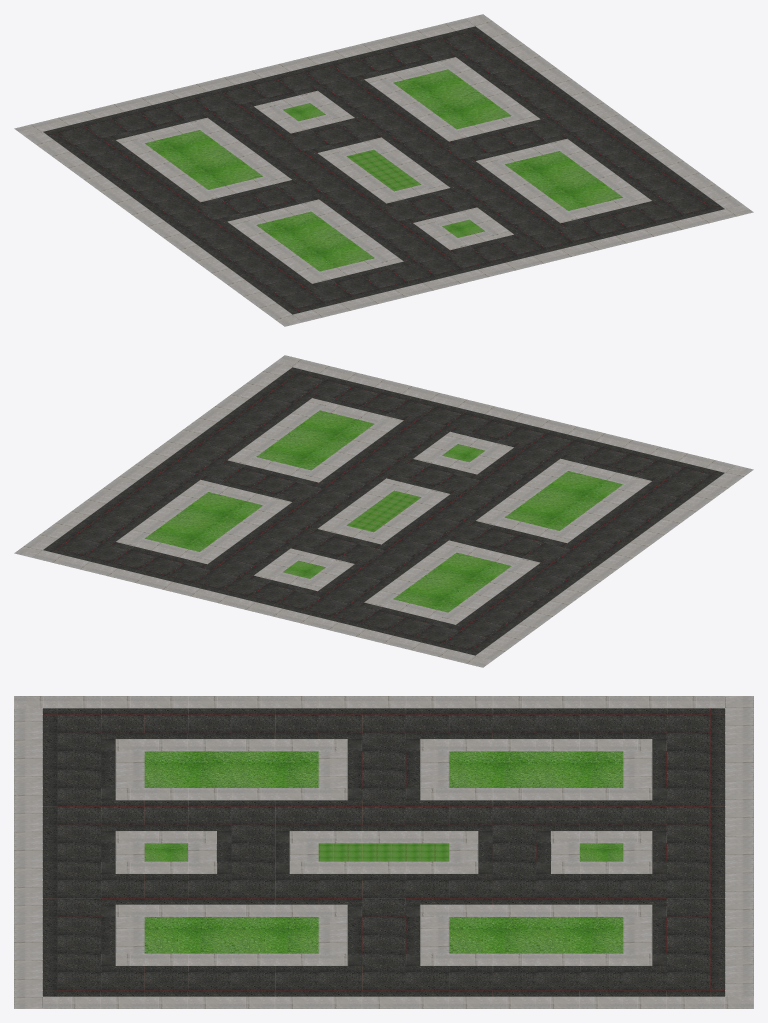
The model's file is Level.fbx.
3 renders of one model, top to bottom at view 1: azimuth 30°, elevation 25°; view 2: azimuth 150°, elevation 25°; view 3: azimuth 270°, elevation 25°, orthographic. The views are drawn at different scales.
Visible parts, largest first — view 1: ParkToTown; view 2: ParkToTown; view 3: ParkToTown.
Part boxes in pixels (x1=…): ParkToTown: x1=14, y1=14, x2=753, y2=326; ParkToTown: x1=14, y1=355, x2=753, y2=667; ParkToTown: x1=14, y1=696, x2=753, y2=1008.
Size of what is drawn, in the model's own units: 5100 by 0 by 5100.
